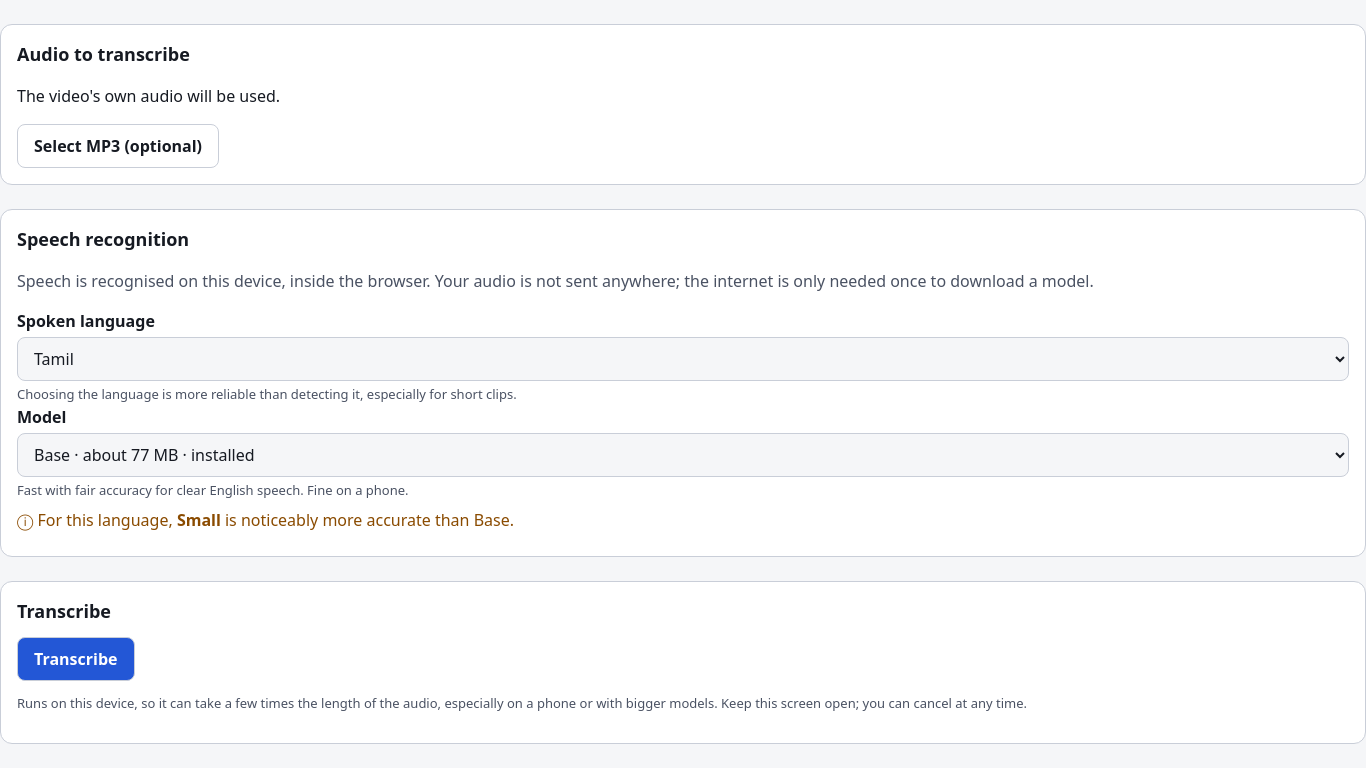
Test: Speech workflow › can be cancelled and says nothing was changed
What coordinates should you click on to do the following:
click the button "Transcribe"
I would click on:
 (76, 659)
Its box is [17, 637, 134, 681].
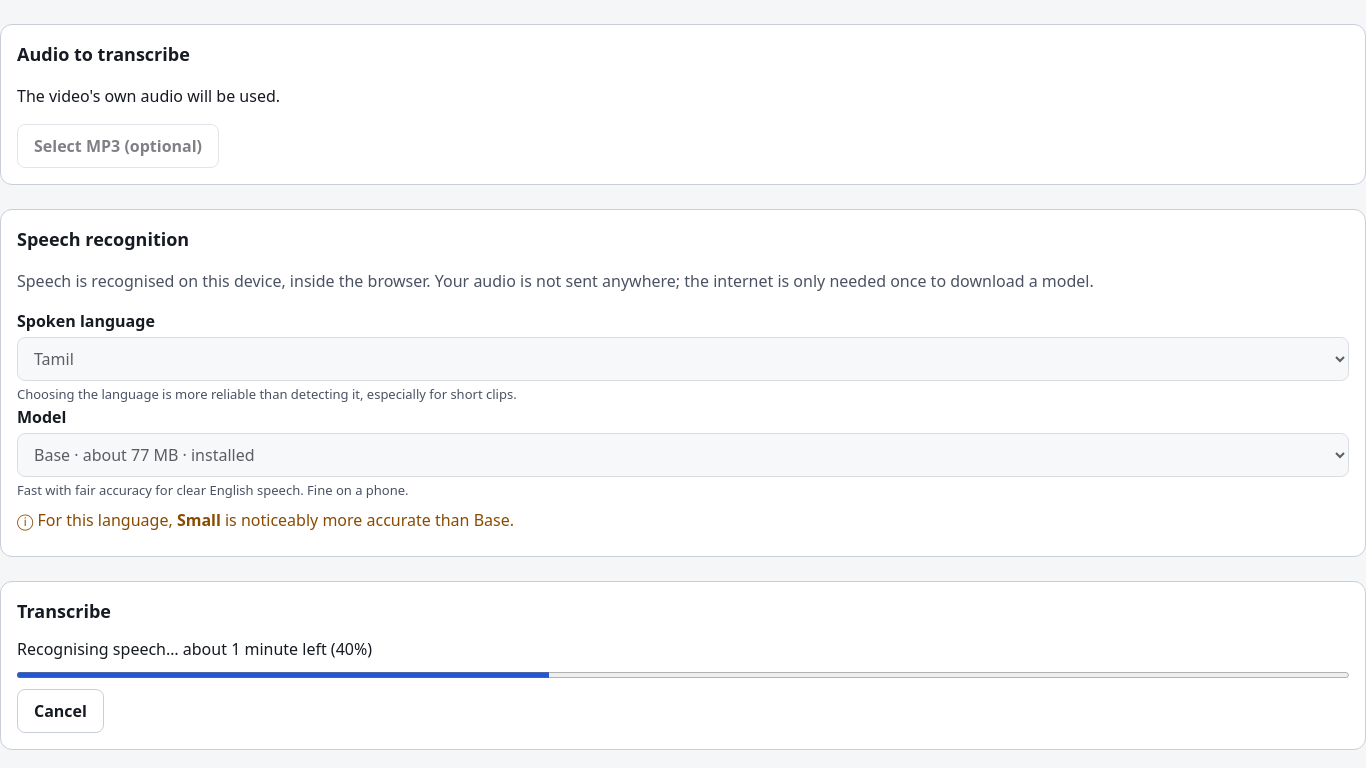
What coordinates should you click on to do the following:
click the button "Cancel"
I would click on:
 (60, 711)
Its box is [17, 689, 104, 733].
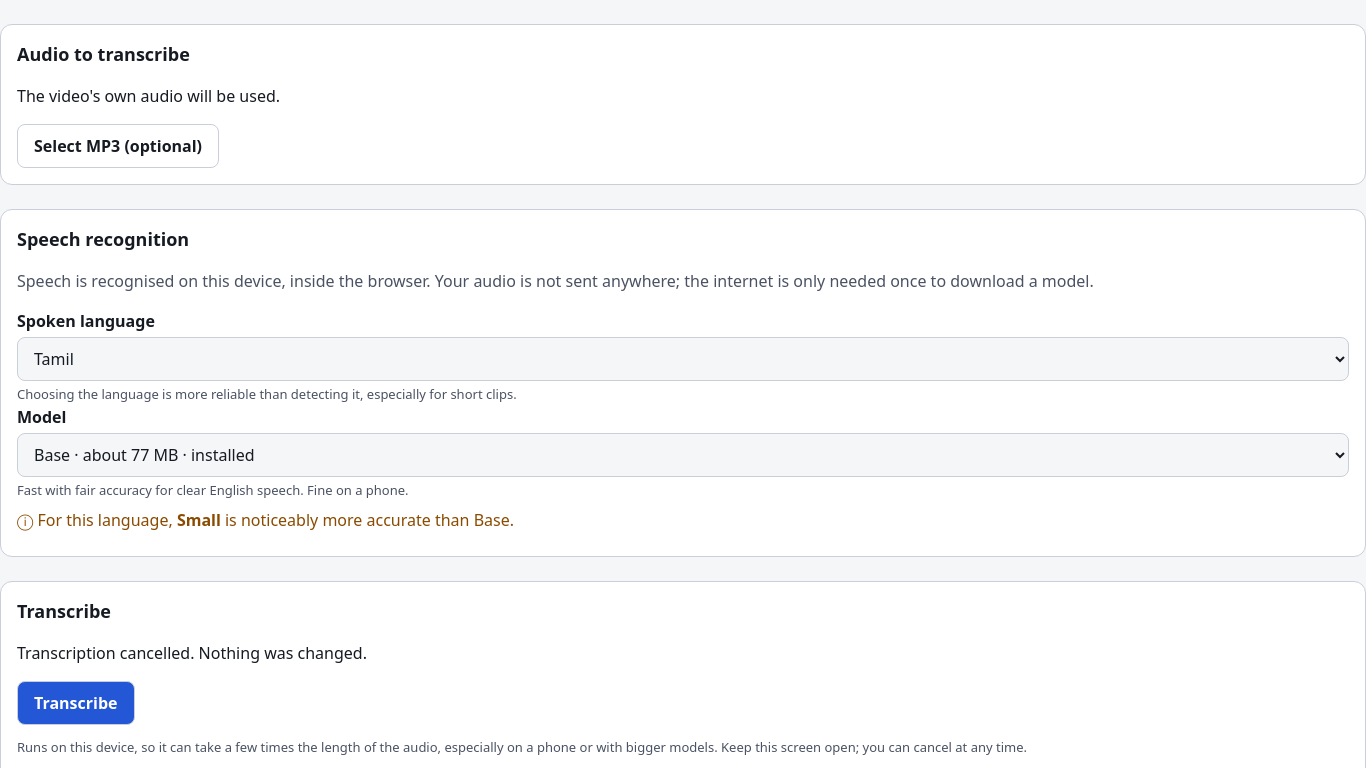
Check: the button "Transcribe" is enabled, box [17, 681, 134, 725]
Check: the text "Transcription cancelled. Nothing was changed." is shown, box [17, 642, 367, 664]
